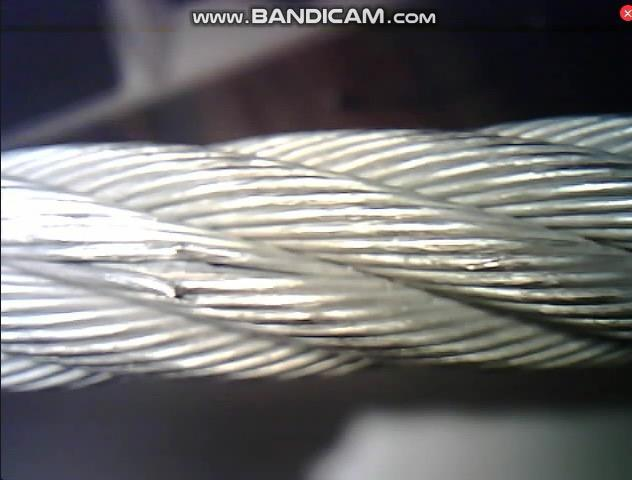break: (154, 265, 211, 316)
